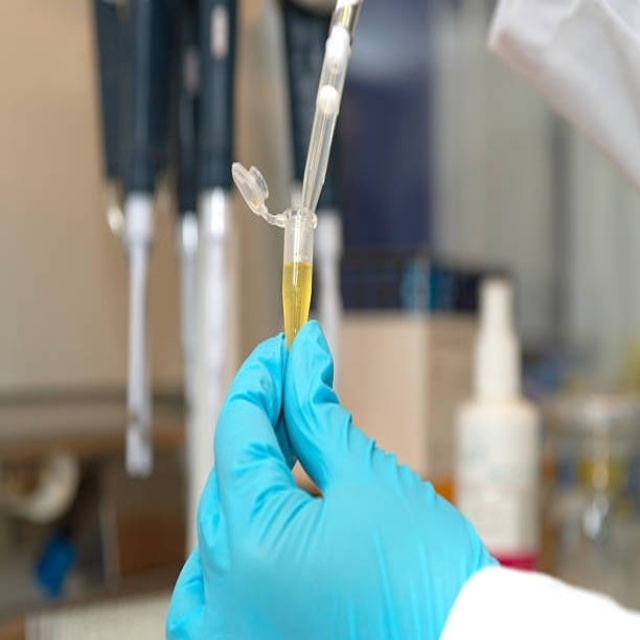Guantes: (163, 321, 501, 640)
